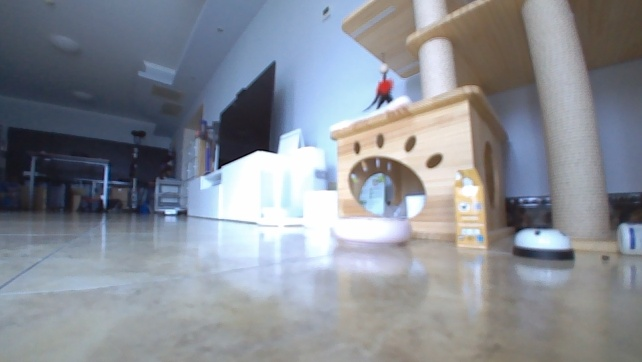TV_stand: (181, 147, 279, 225)
